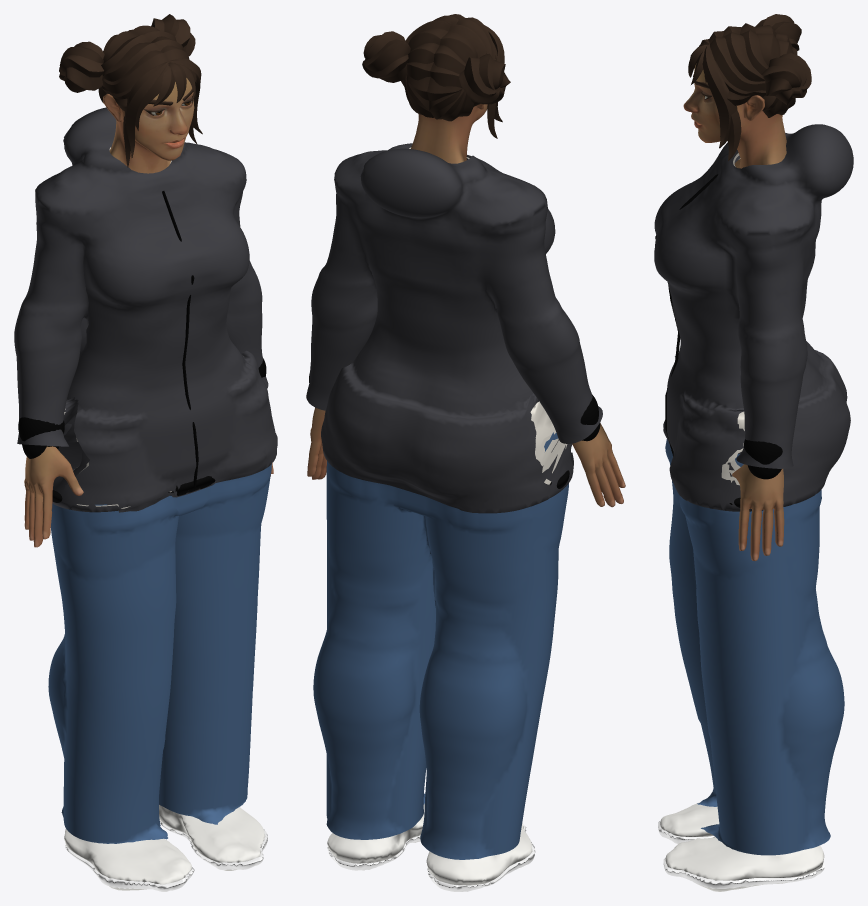
File: street.glb
3 views of the same model, side by side, from view 1: azimuth 30°, elevation 25°; view 2: azimuth 150°, elevation 25°; view 3: azimuth 270°, elevation 25° (orthographic). The views are drawn at different scales.
Visible parts, largest first — view 1: zip_up, baggy_pants, hair_bun, sneakers, body, sneakers-2, zip_up-3, zip_up-4, sneakers-1; view 2: zip_up, baggy_pants, hair_bun, body, sneakers, t_shirt, sneakers-2; view 3: zip_up, baggy_pants, hair_bun, body, sneakers, sneakers-1, zip_up-2, t_shirt, zip_up-4.
Part boxes in pixels (x1,y1,x2,y2): zip_up: (14, 107, 277, 512); baggy_pants: (48, 463, 271, 843); hair_bun: (59, 14, 202, 167); sneakers: (64, 805, 265, 890); body: (24, 78, 273, 547); sneakers-2: (65, 844, 194, 891); zip_up-3: (18, 417, 64, 458); zip_up-4: (162, 191, 198, 487); sneakers-1: (159, 820, 267, 870); zip_up: (306, 143, 602, 513); baggy_pants: (313, 432, 568, 859); hair_bun: (362, 14, 510, 138); body: (307, 104, 625, 507); sneakers: (327, 803, 532, 885); t_shirt: (409, 147, 567, 484); sneakers-2: (427, 825, 535, 891); zip_up: (654, 124, 853, 511); baggy_pants: (665, 439, 844, 855); hair_bun: (688, 14, 811, 160); body: (683, 63, 786, 561); sneakers: (660, 802, 824, 891); sneakers-1: (663, 858, 824, 888); zip_up-2: (744, 439, 782, 479); t_shirt: (721, 153, 744, 485); zip_up-4: (655, 174, 718, 456).
Size of the model in its own units: 0.6059 by 1.79 by 0.3944.
11 materials, 4 textured.
